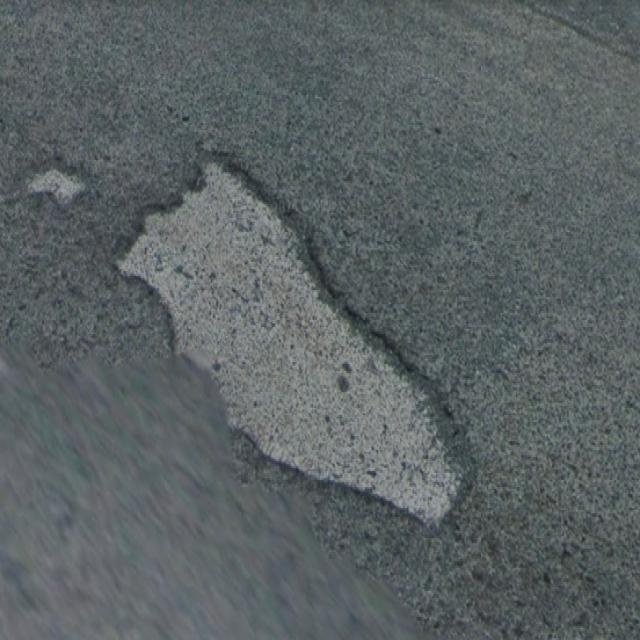pothole: (109, 106, 508, 554), (24, 128, 104, 226)
